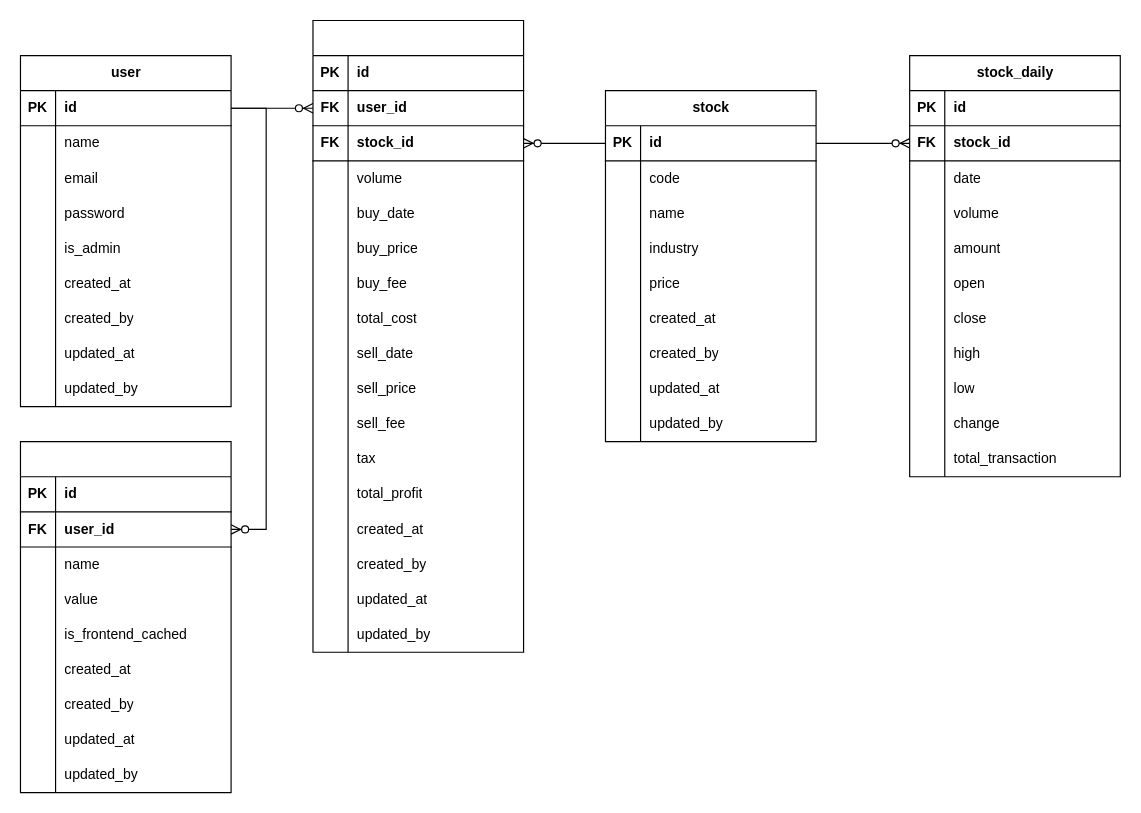
This 1141x813 diagram has some shape labels left out. Here are the shapes that lost their labels. From the top down, the box of each, then its label:
(312, 19, 524, 652): user_stock
(19, 441, 231, 793): system_preference
